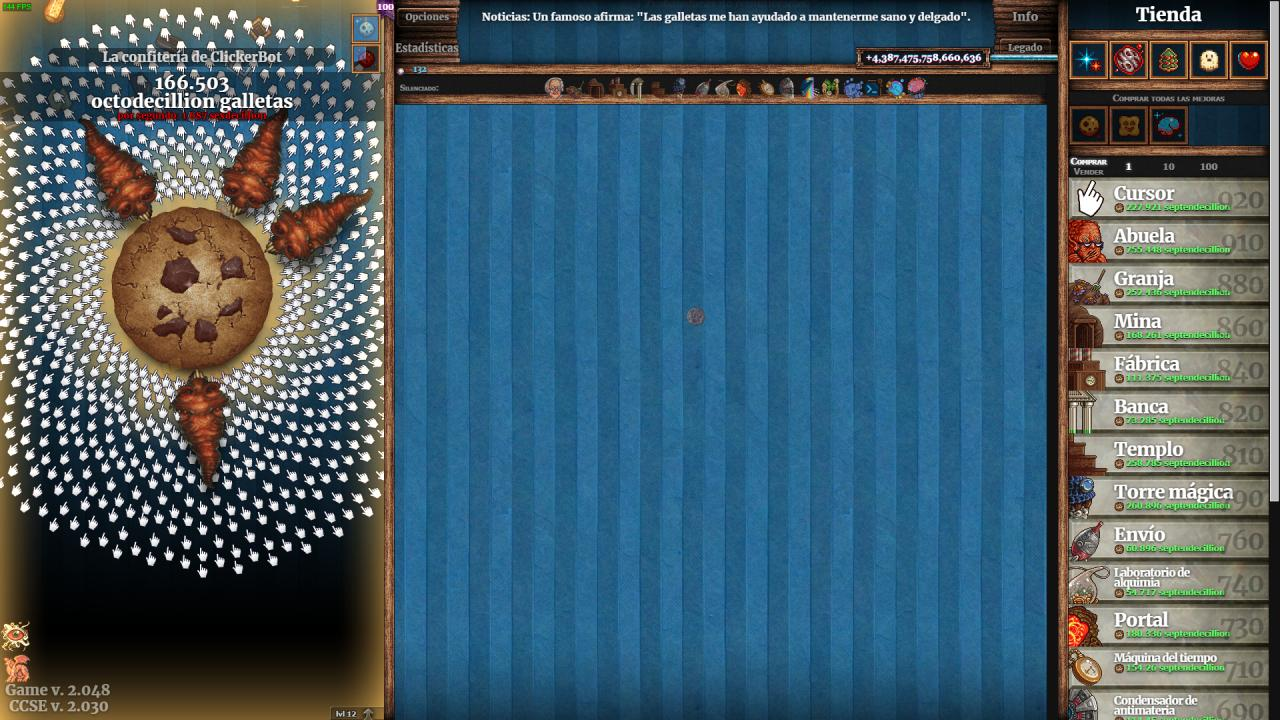RedCookie: (686, 305, 707, 328)
